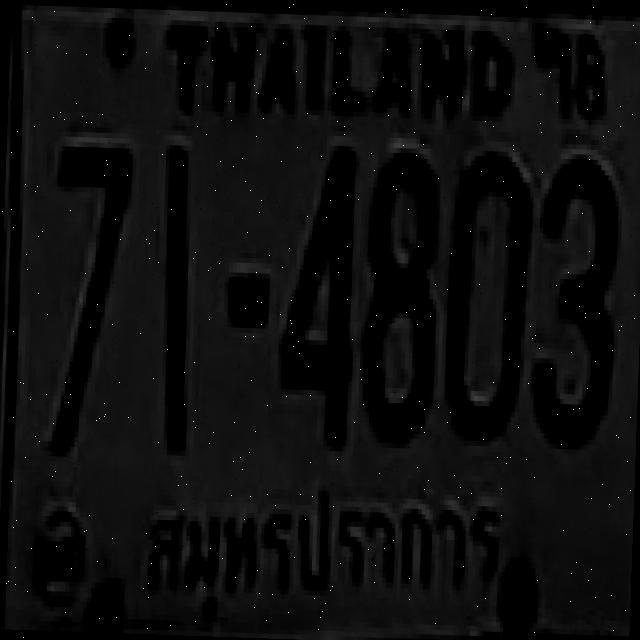0: (442, 150, 530, 438)
1: (159, 144, 190, 400)
3: (528, 152, 616, 446)
4: (275, 142, 356, 444)
7: (50, 141, 128, 398), (51, 144, 129, 356)
8: (357, 146, 438, 438)
SamutPrakan: (136, 470, 510, 622)
